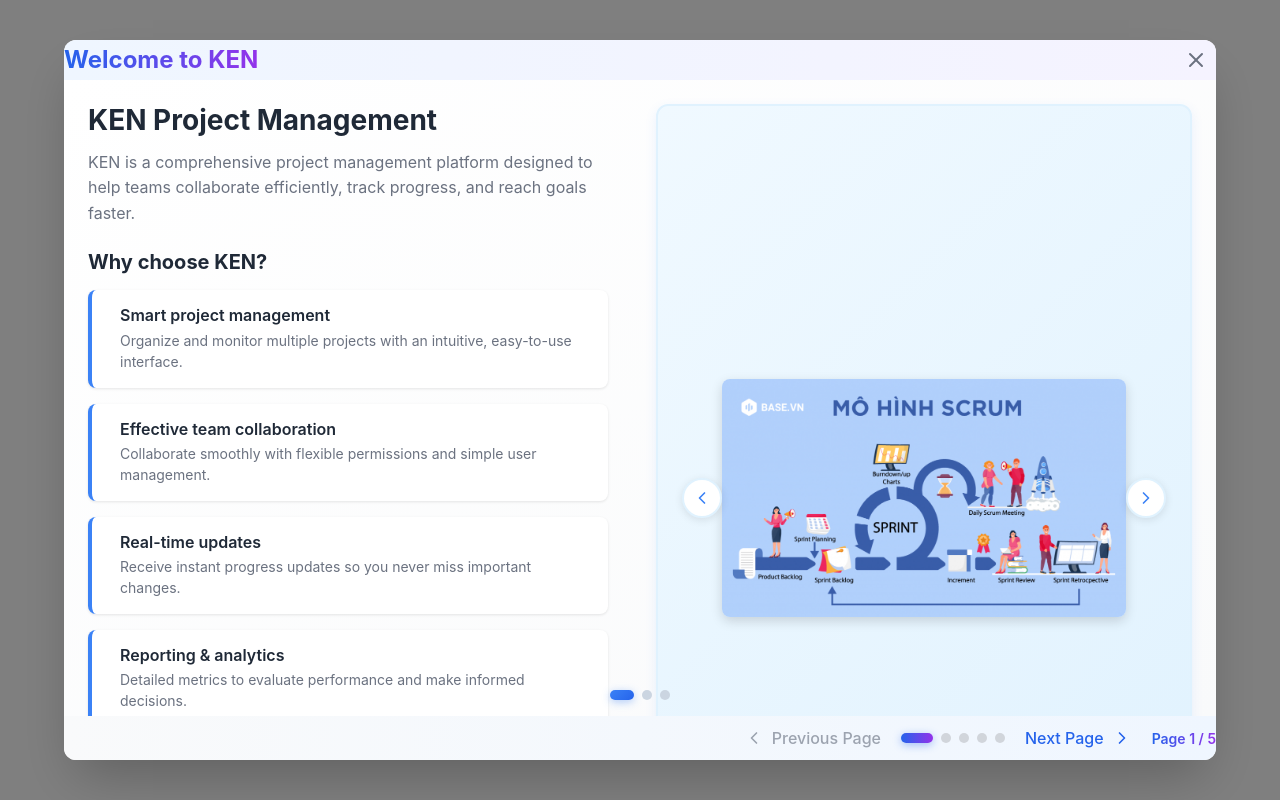
components/HelpButton/GuideModal render › disables prev on first page and next on last page
Expected: the button "Previous Page" is disabled, x1=724 y1=716 x2=901 y2=760
Click the button "Next Page" at {"x": 1078, "y": 738}, box x1=1005 y1=716 x2=1152 y2=760
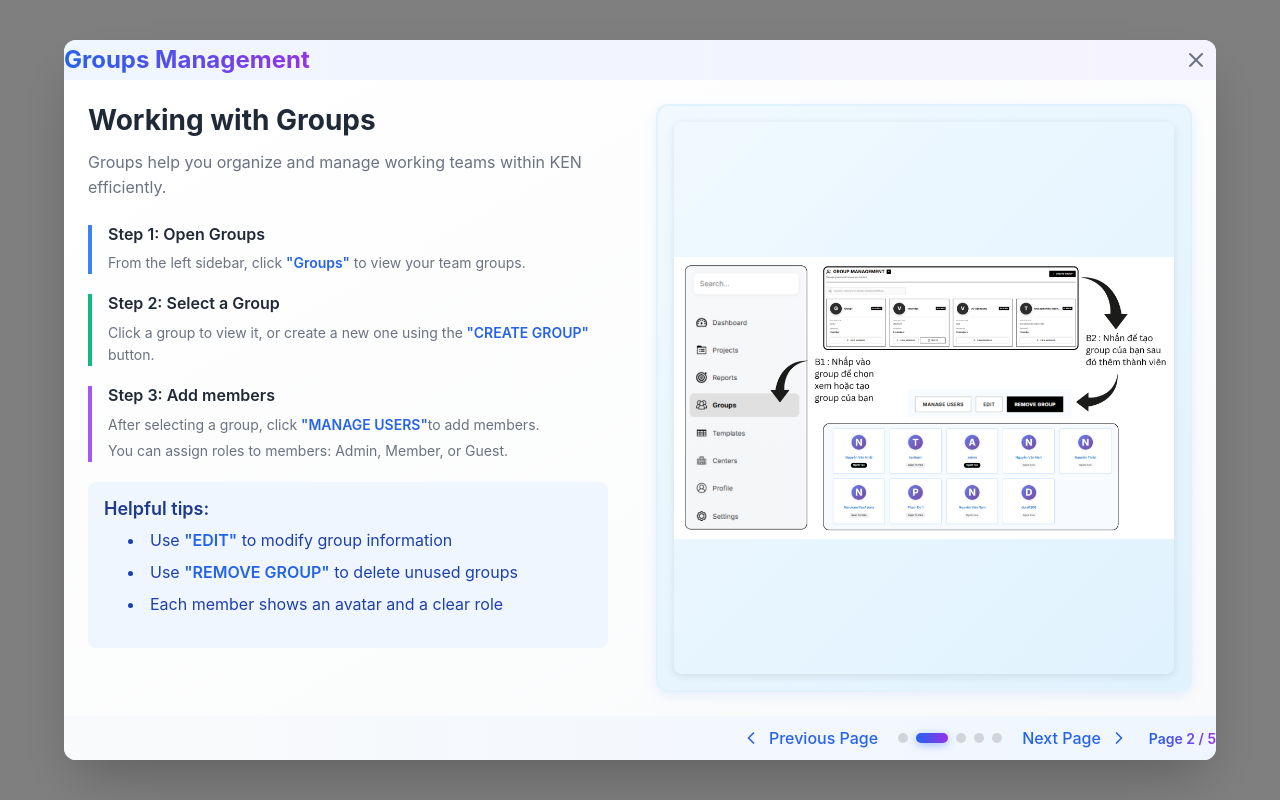
Click the button "Next Page" at {"x": 1076, "y": 738}, box x1=1002 y1=716 x2=1149 y2=760
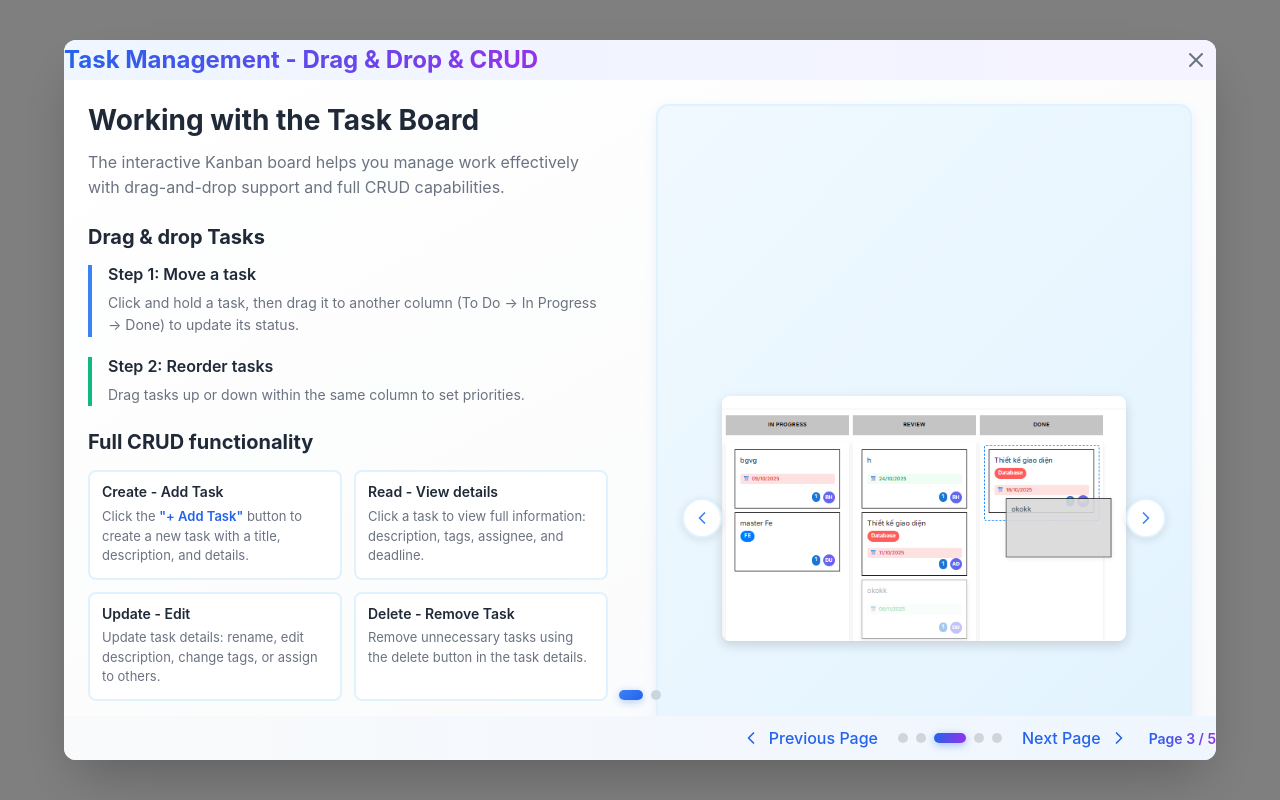
Click the button "Next Page" at {"x": 1075, "y": 738}, box x1=1002 y1=716 x2=1149 y2=760
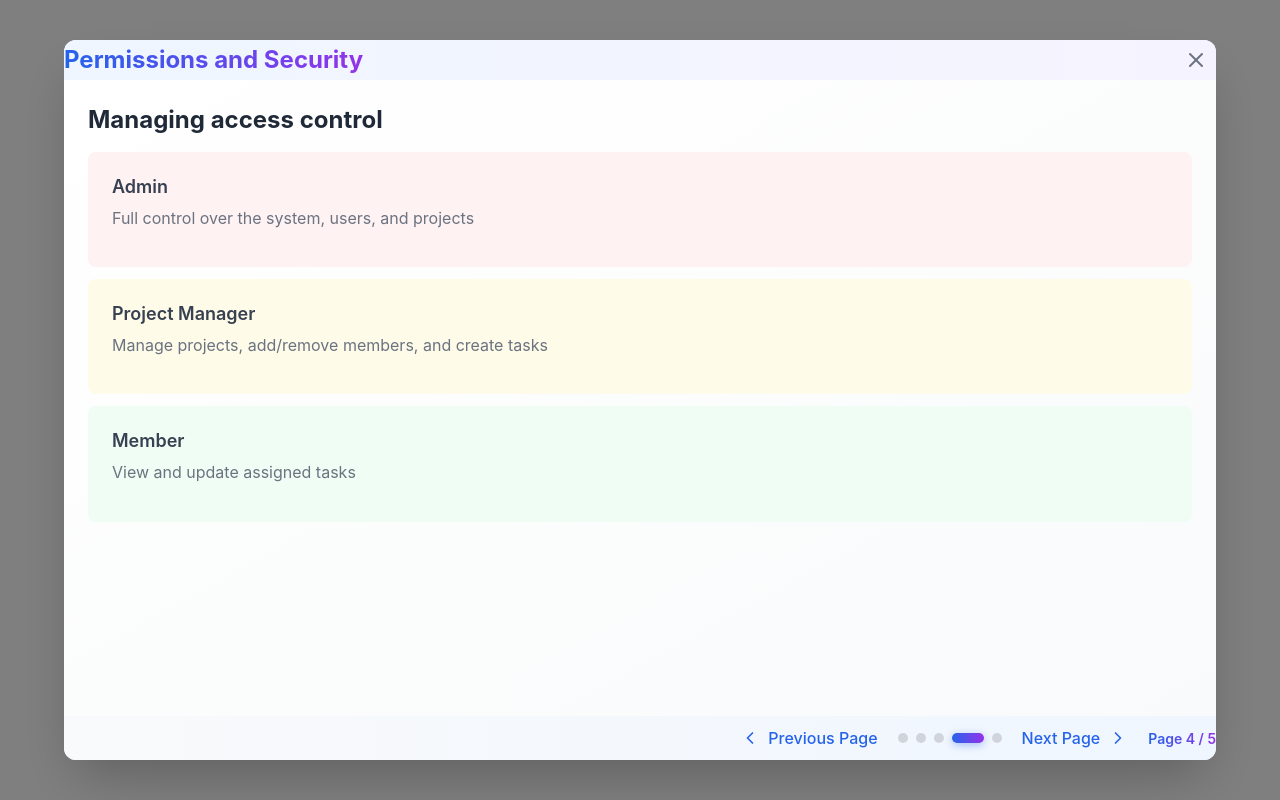
Click the button "Next Page" at {"x": 1075, "y": 738}, box x1=1002 y1=716 x2=1148 y2=760
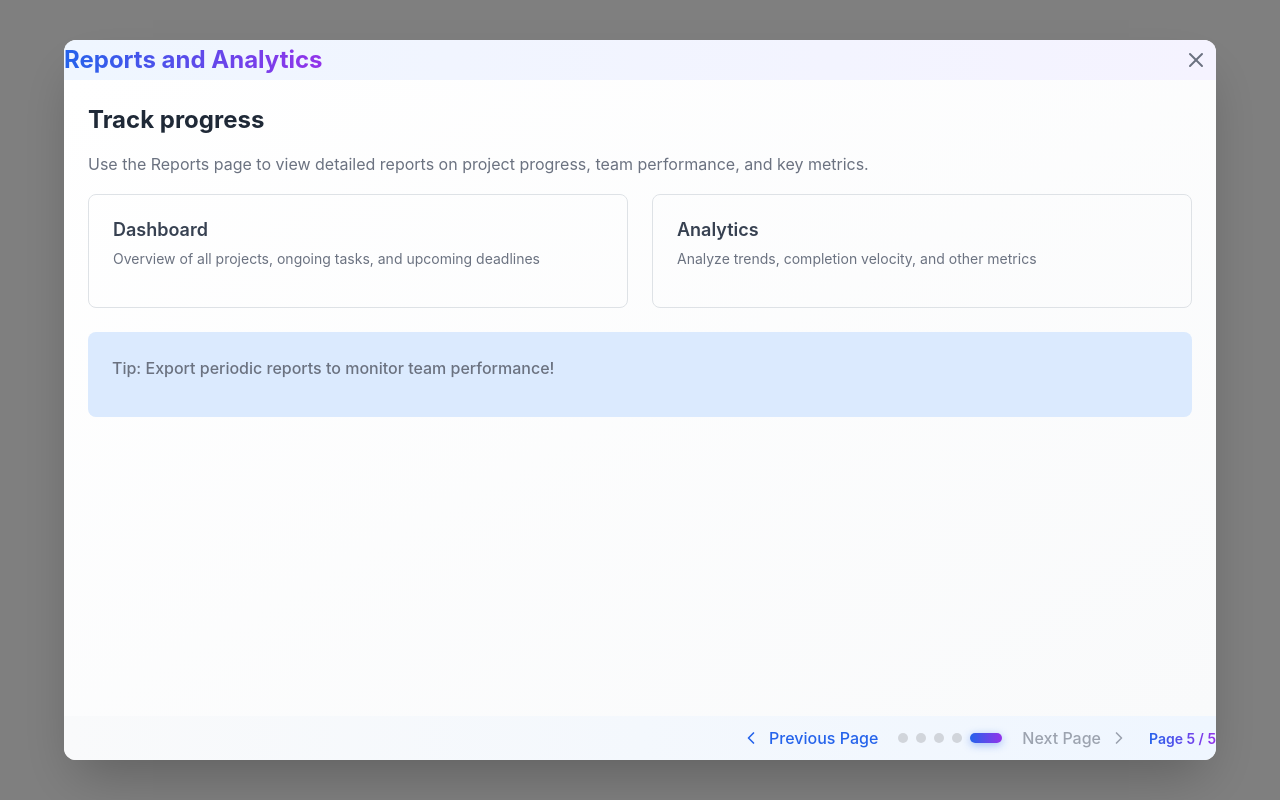
Expected: the button "Next Page" is disabled, x1=1002 y1=716 x2=1149 y2=760
